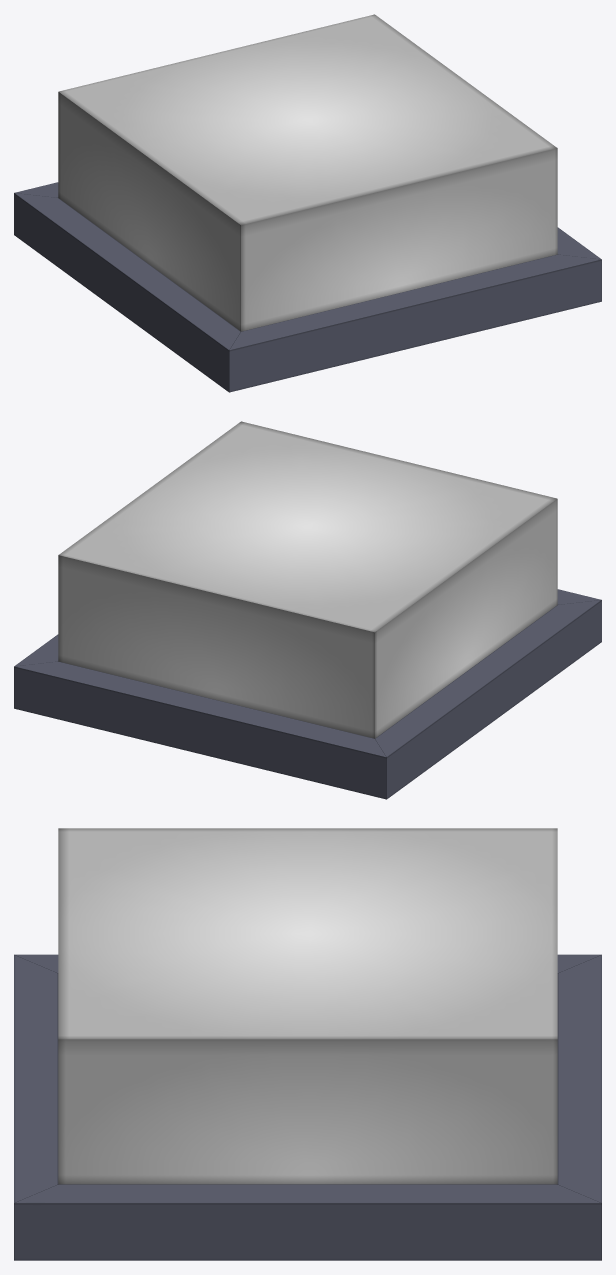
File: Button_Squared_White.FBX
3 renders of one model, top to bottom at view 1: azimuth 30°, elevation 25°; view 2: azimuth 150°, elevation 25°; view 3: azimuth 270°, elevation 25°, orthographic. The views are drawn at different scales.
Parts seen in each view (by area): view 1: Push_Me, Button_Squared_White; view 2: Push_Me, Button_Squared_White; view 3: Push_Me, Button_Squared_White.
Boxes of the visible parts, <box> form: Push_Me: <box>58,14,557,331</box>; Button_Squared_White: <box>14,182,601,392</box>; Push_Me: <box>58,421,557,738</box>; Button_Squared_White: <box>14,589,601,799</box>; Push_Me: <box>58,828,557,1184</box>; Button_Squared_White: <box>14,954,601,1260</box>.
Bounding box in the file's own units: 0.0922 × 0.0351 × 0.0922.
1 material, 1 textured.
